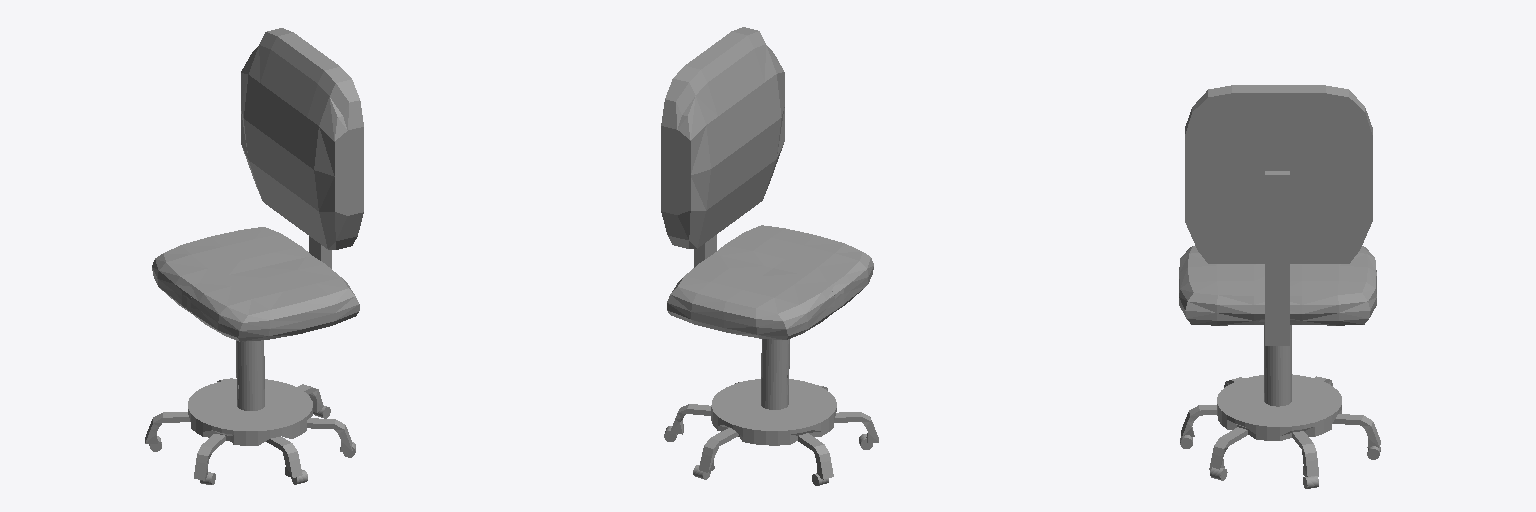
File: chairv6.obj
3 renders of one model, left to right at view 1: azimuth 30°, elevation 25°; view 2: azimuth 150°, elevation 25°; view 3: azimuth 270°, elevation 25°, orthographic.
Parts seen in each view (by area): view 1: Cube.003, Cube.002, Circle; view 2: Cube.003, Cube.002, Circle; view 3: Cube.003, Cube.002, Circle, Cube.001.
Part boxes in pixels (bbox=[...]): Cube.003: bbox=[241, 28, 363, 249]; Cube.002: bbox=[152, 227, 359, 410]; Circle: bbox=[145, 378, 352, 480]; Cube.003: bbox=[661, 27, 784, 248]; Cube.002: bbox=[667, 225, 873, 409]; Circle: bbox=[670, 379, 878, 479]; Cube.003: bbox=[1185, 85, 1372, 263]; Cube.002: bbox=[1179, 246, 1376, 406]; Circle: bbox=[1181, 374, 1380, 476]; Cube.001: bbox=[1265, 171, 1289, 345].
Size of the model in its own units: 3.25 by 6.74 by 3.23.